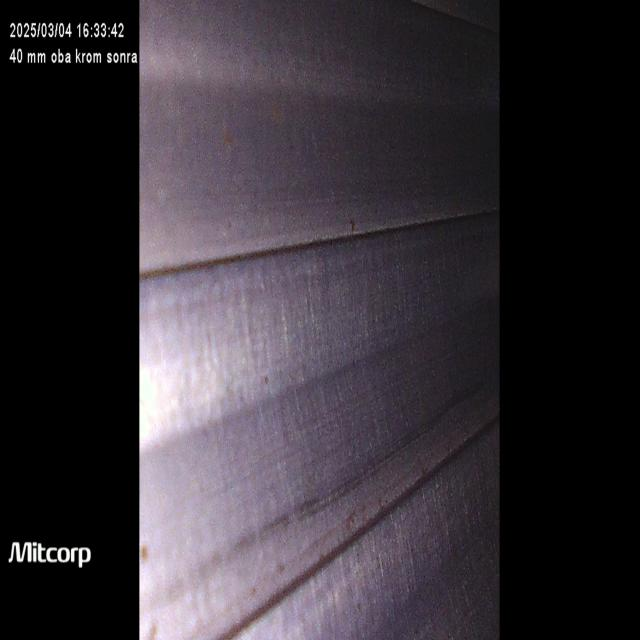hata_4.2: (338, 499, 394, 542), (346, 193, 370, 255), (218, 113, 239, 162), (138, 536, 158, 580), (256, 562, 291, 583), (244, 580, 265, 612), (144, 612, 166, 640), (260, 369, 276, 398)
